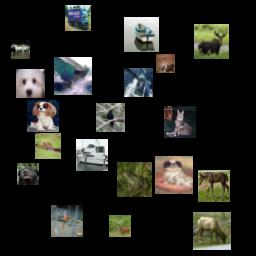bird: (51, 205, 83, 237), (96, 103, 125, 132)
cat: (164, 106, 196, 138)
deer: (193, 212, 231, 250), (194, 24, 229, 59), (35, 133, 61, 159), (109, 215, 131, 237), (156, 54, 175, 73)
dog: (155, 156, 193, 194), (27, 100, 59, 132), (16, 69, 45, 98), (17, 163, 39, 185)
frog: (117, 162, 152, 197)
ship: (124, 17, 159, 52), (76, 139, 108, 171), (124, 68, 153, 97)
truck: (54, 57, 92, 95), (65, 5, 91, 31)
